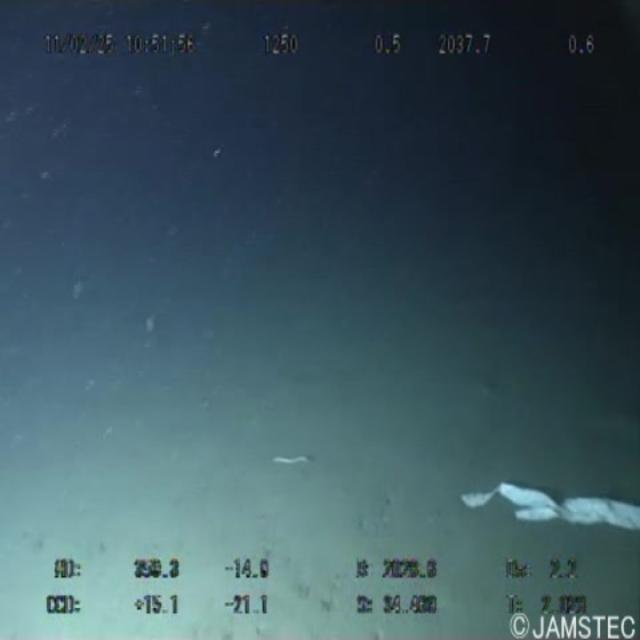Plastic: (448, 457, 640, 555)
